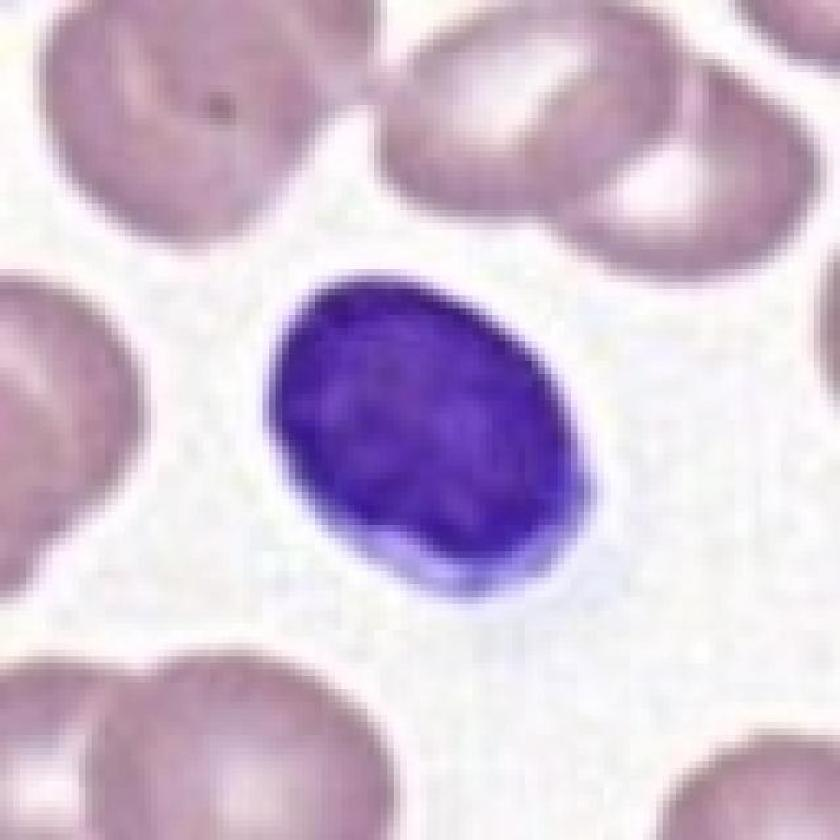lymphocyte: (261, 266, 606, 614)
